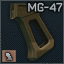AK KGB MG-47 pistol grip: (0, 0, 64, 64)
